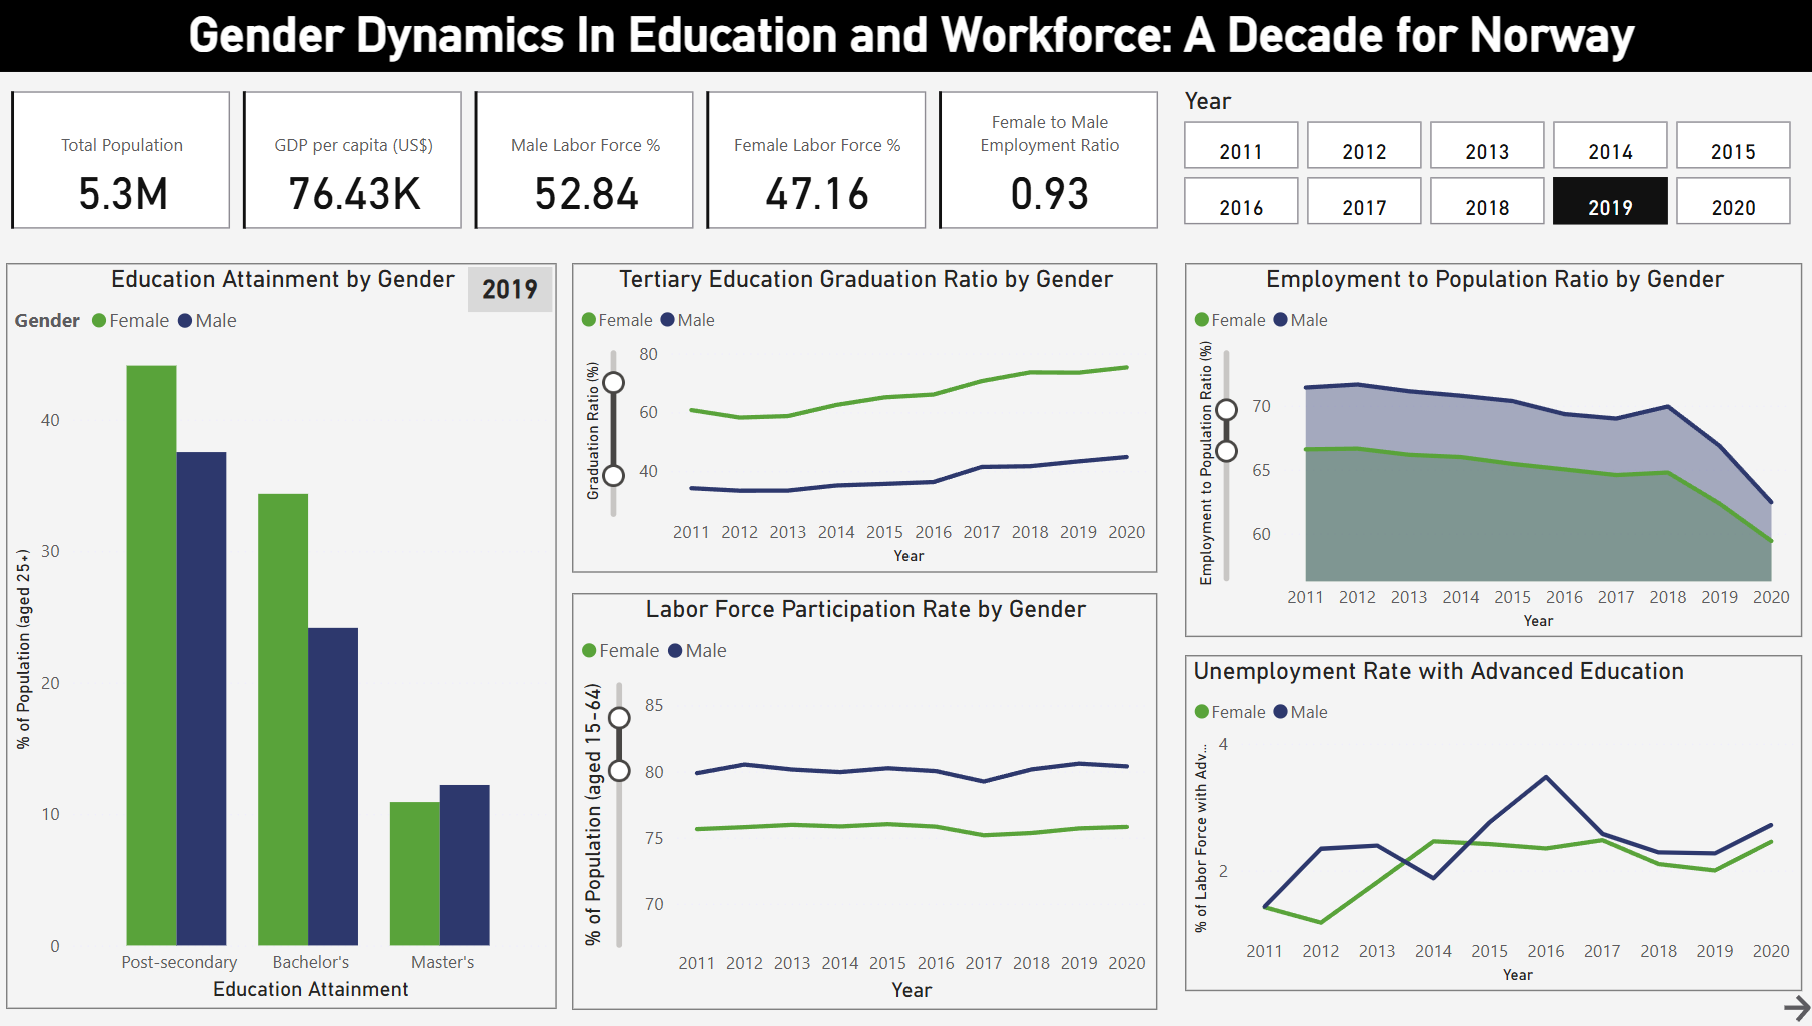

Layout of this report page (visuals, bound fields, positions):
{"tool":"powerbi","page":{"name":"Norway","canvas":[1280,720],"ordinal":0},"visuals":[{"type":"textbox","box":[0,0,1280,51],"z":0},{"type":"advancedSlicerVisual","fields":{"Values":["Year.Year"]},"box":[824.6,61.5,437.7,101.5],"z":1000},{"type":"lineChart","title":"Tertiary Education Graduation Ratio by Gender","fields":{"Y":["Sum(Gender Indicators.Gross graduation ratio, tertiary, female (%))","Sum(Gender Indicators.Gross graduation ratio, tertiary, male (%))"],"Category":["Year.Year.Variation.Date Hierarchy.Year"]},"box":[403.3,185,408.3,216.7],"z":2000},{"type":"lineChart","title":"Labor Force Participation Rate by Gender","fields":{"Category":["Year.Year.Variation.Date Hierarchy.Year"],"Y":["Sum(Gender Indicators.Labor force participation rate, female (% of female population ages 15-64) (modeled ILO estimate))","Sum(Gender Indicators.Labor force participation rate, male (% of male population ages 15-64) (modeled ILO estimate))"]},"box":[403.3,415,408.3,291.7],"z":3000},{"type":"cardVisual","fields":{"Data":["Sum(Economic Indicators.Population, total)","Sum(Economic Indicators.GDP per capita (Current US$))","Gender Indicators.Male Labor Force %","Gender Indicators.Female Labor Force %","Employment Indicators.Female Employment Ratio"]},"box":[6.2,61.5,813.1,102.3],"z":4000},{"type":"clusteredColumnChart","title":"Education Attainment by Gender","fields":{"Category":["Education Attainment.Series Name (groups)"],"Y":["Sum(Education Attainment.Value)"],"Series":["Education Attainment.Gender"]},"box":[6.7,185,385,521.7],"z":5000},{"type":"areaChart","title":"Employment to Population Ratio by Gender","fields":{"Y":["Sum(Employment Indicators.Employment to population ratio, 15+, female (%) (national estimate))","Sum(Employment Indicators.Employment to population ratio, 15+, male (%) (national estimate))"],"Category":["Year.Year.Variation.Date Hierarchy.Year"]},"box":[830,185,431.7,261.7],"z":6000},{"type":"actionButton","box":[1244.7,692.7,35.3,27.3],"z":7000},{"type":"card","fields":{"Values":["Min(Year.Year)"]},"box":[330,187.5,58.8,31.2],"z":8000},{"type":"lineChart","title":"Unemployment Rate with Advanced Education","fields":{"Category":["Year.Year.Variation.Date Hierarchy.Year"],"Y":["Sum(Gender Indicators.Unemployment with advanced education, female (% of female labor force with advanced education))","Sum(Gender Indicators.Unemployment with advanced education, male (% of male labor force with advanced education))"]},"box":[830,458.3,431.7,235],"z":9000}]}

Visuals, with their boxes in screenshot pixels (x1, y1, x2, y2), scaled from the page's 1280x720 canvas onto the 1812x1026 screenshot:
textbox: 0 0 1811 73
advancedSlicerVisual - Year.Year: 1167 88 1787 232
"Tertiary Education Graduation Ratio by Gender" lineChart: 571 264 1149 572
"Labor Force Participation Rate by Gender" lineChart: 571 591 1149 1007
cardVisual - Sum(Economic Indicators.Population, total) x Sum(Economic Indicators.GDP per capita (Current US$)): 9 88 1160 233
"Education Attainment by Gender" clusteredColumnChart: 9 264 555 1007
"Employment to Population Ratio by Gender" areaChart: 1175 264 1786 637
actionButton: 1762 987 1811 1025
card - Min(Year.Year): 467 267 550 312
"Unemployment Rate with Advanced Education" lineChart: 1175 653 1786 988
